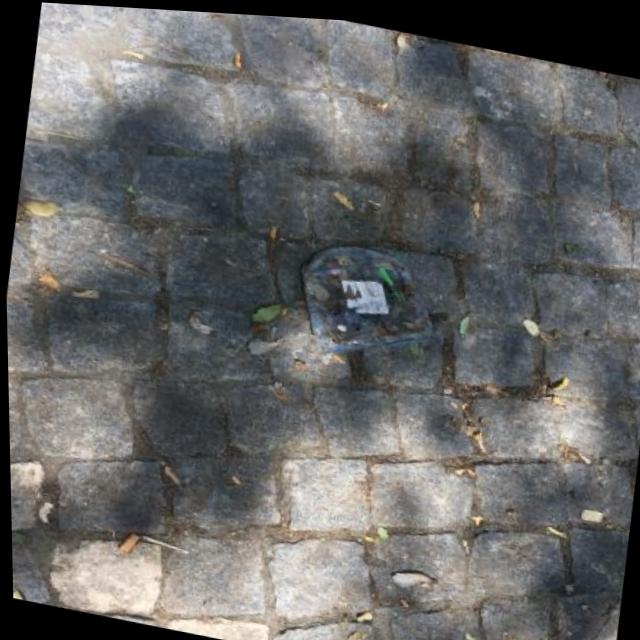plastic: (288, 234, 443, 378)
